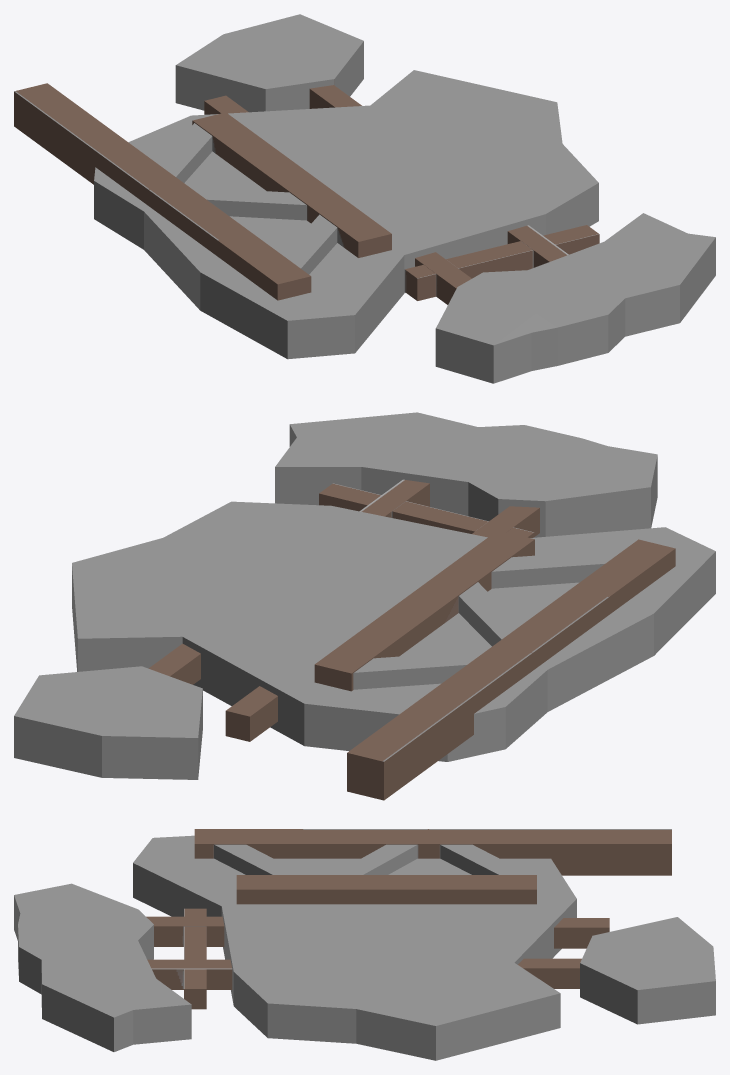
Rendered from debris3.fbx.
3 renders of one model, top to bottom at view 1: azimuth 30°, elevation 25°; view 2: azimuth 150°, elevation 25°; view 3: azimuth 270°, elevation 25°, orthographic. The views are drawn at different scales.
Visible parts, largest first — view 1: Cube.002; view 2: Cube.002; view 3: Cube.002.
Part boxes in pixels (left/top/right/bottom): Cube.002: left=14, top=14, right=715, bottom=383; Cube.002: left=14, top=412, right=715, bottom=800; Cube.002: left=14, top=829, right=715, bottom=1060.
Size of the model in its own units: 582 by 79.44 by 885.
Materials: 1 (1 with a texture image).
